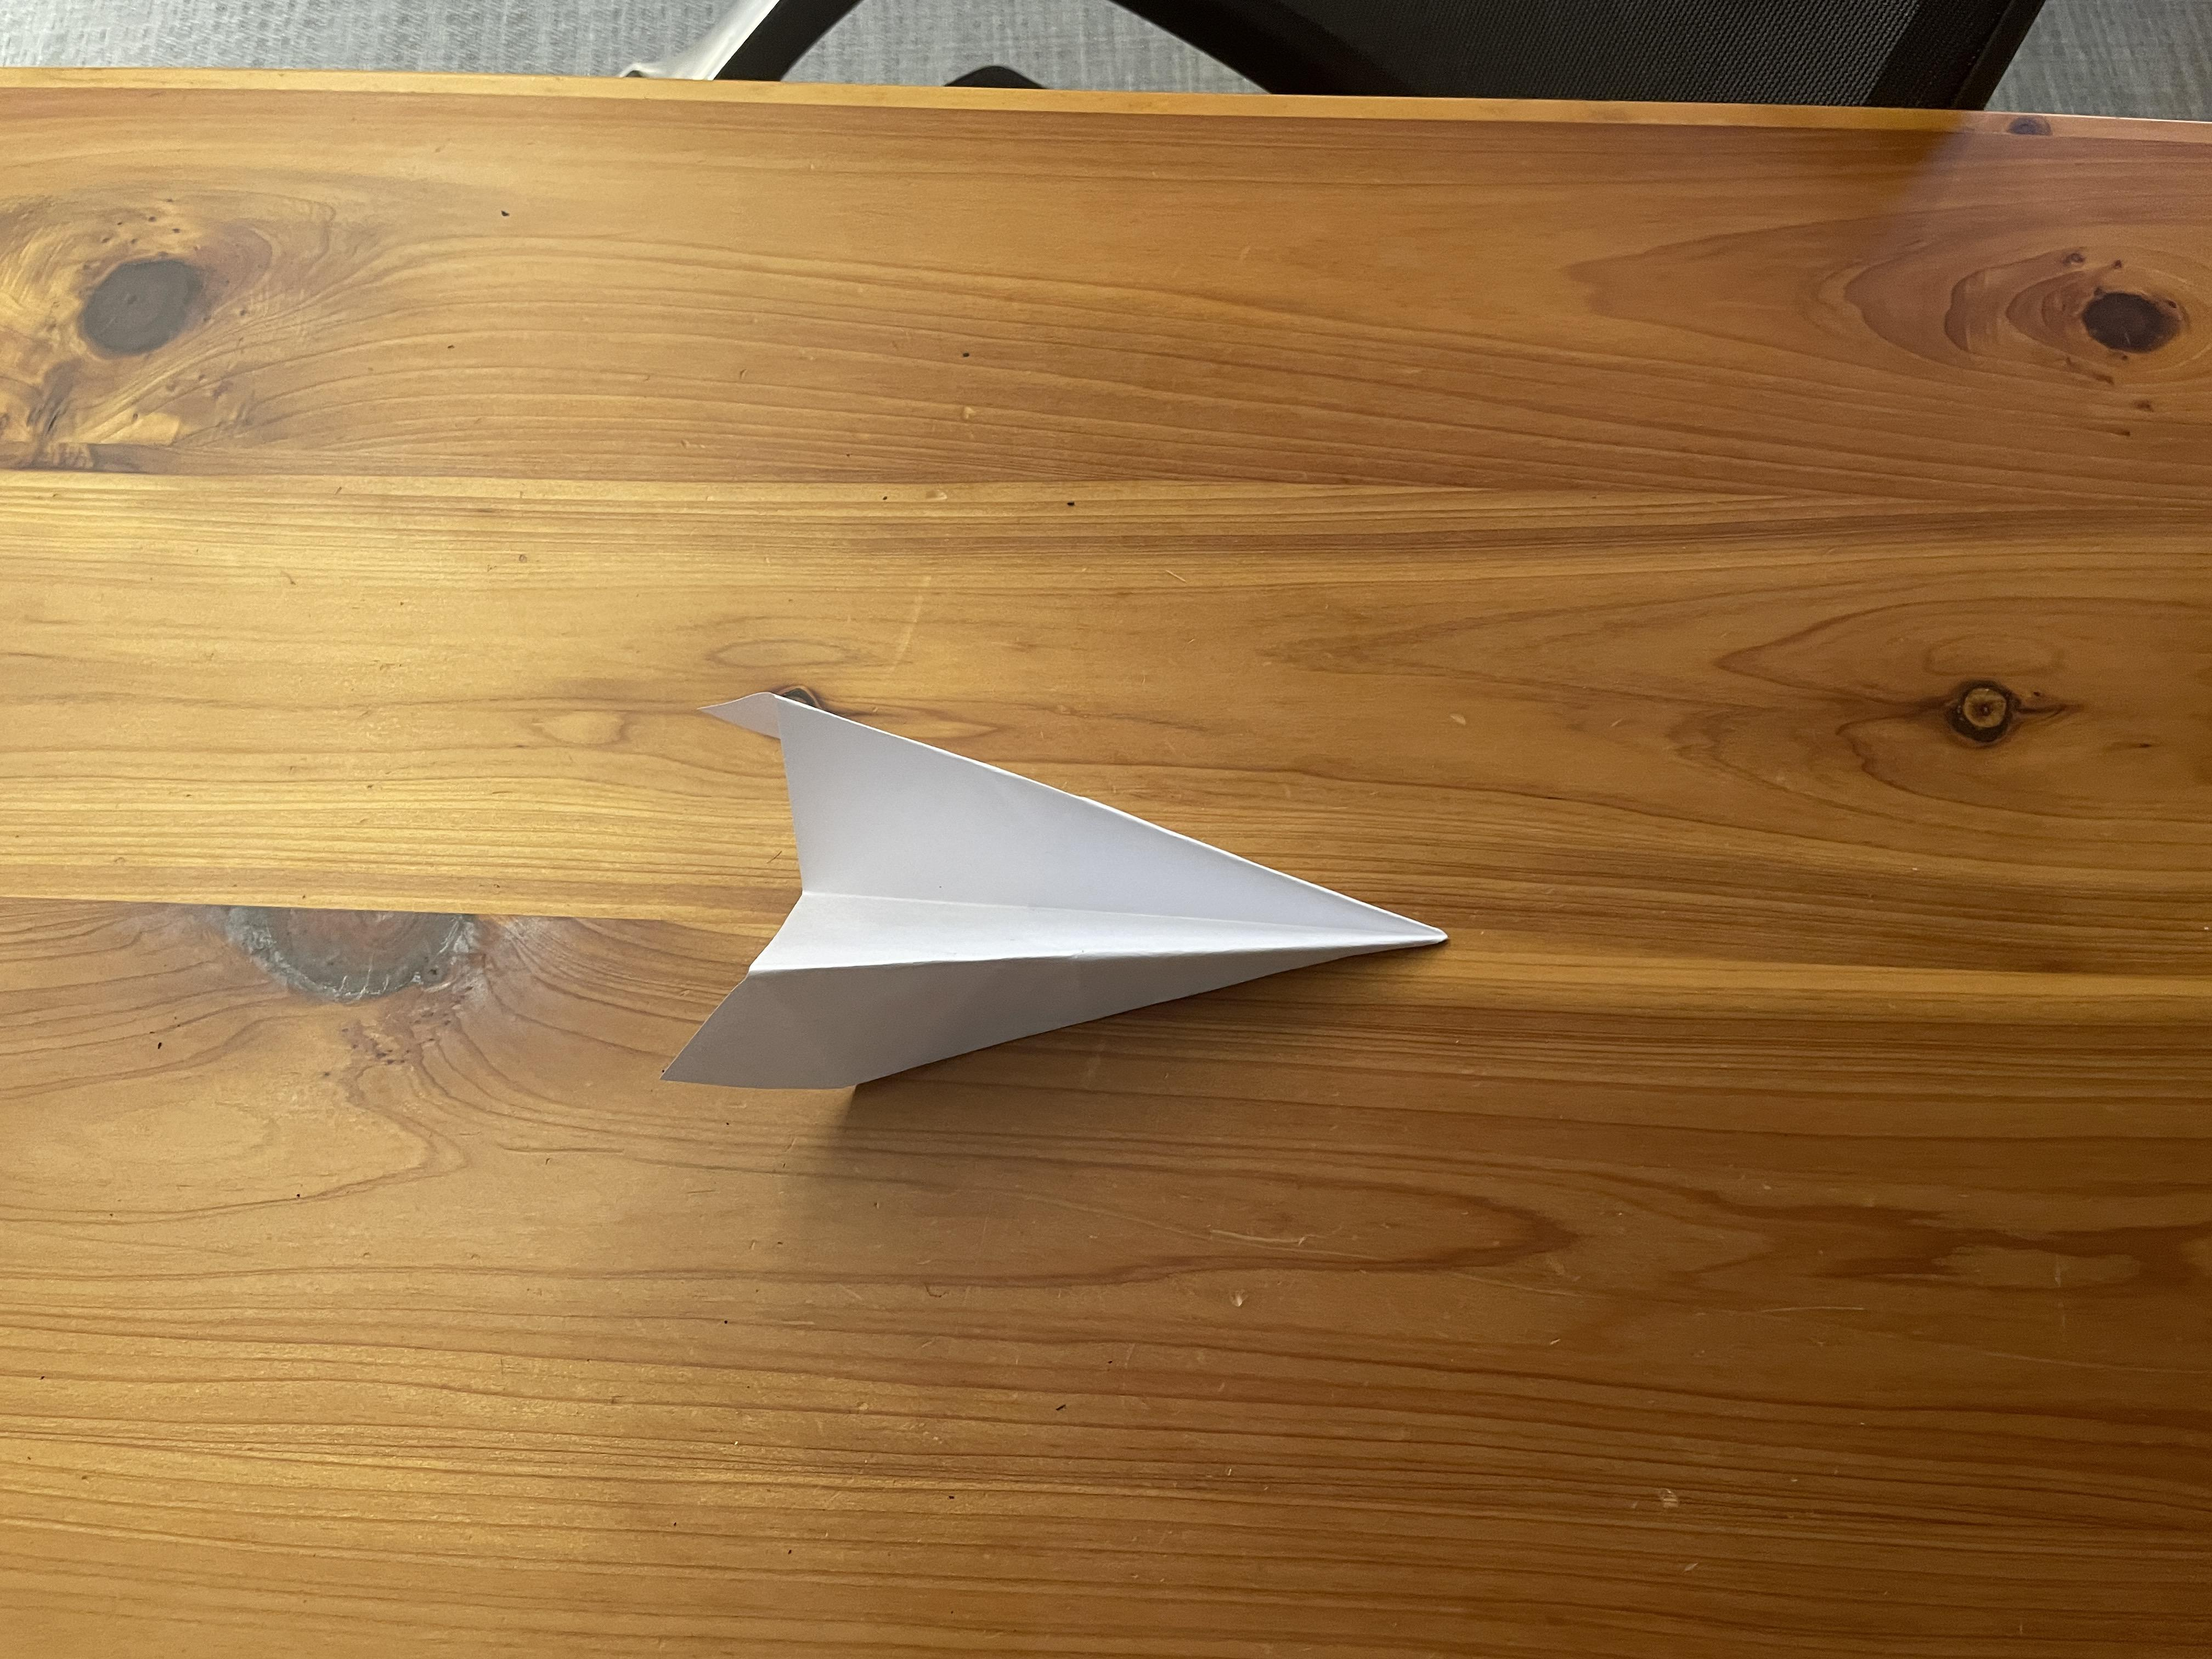shape_3: (611, 598, 1515, 1239)
